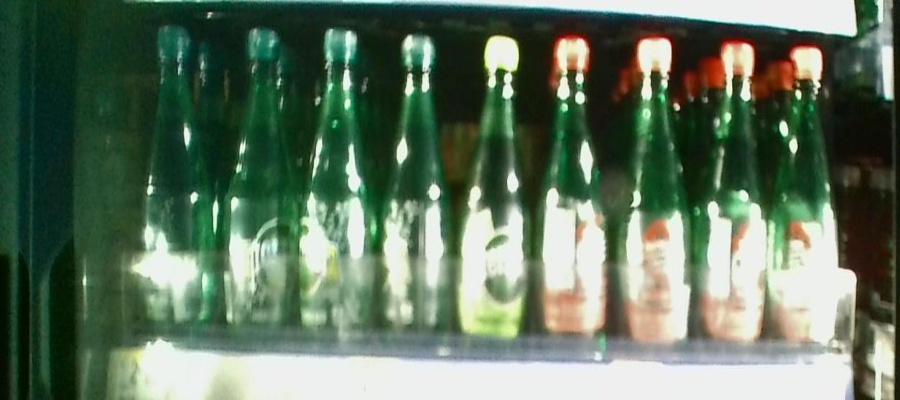bottle: (618, 27, 696, 348), (534, 27, 611, 344), (300, 24, 375, 345), (143, 17, 216, 338), (223, 22, 292, 341), (460, 27, 529, 342), (773, 40, 841, 351), (384, 28, 450, 342), (704, 35, 768, 348)
